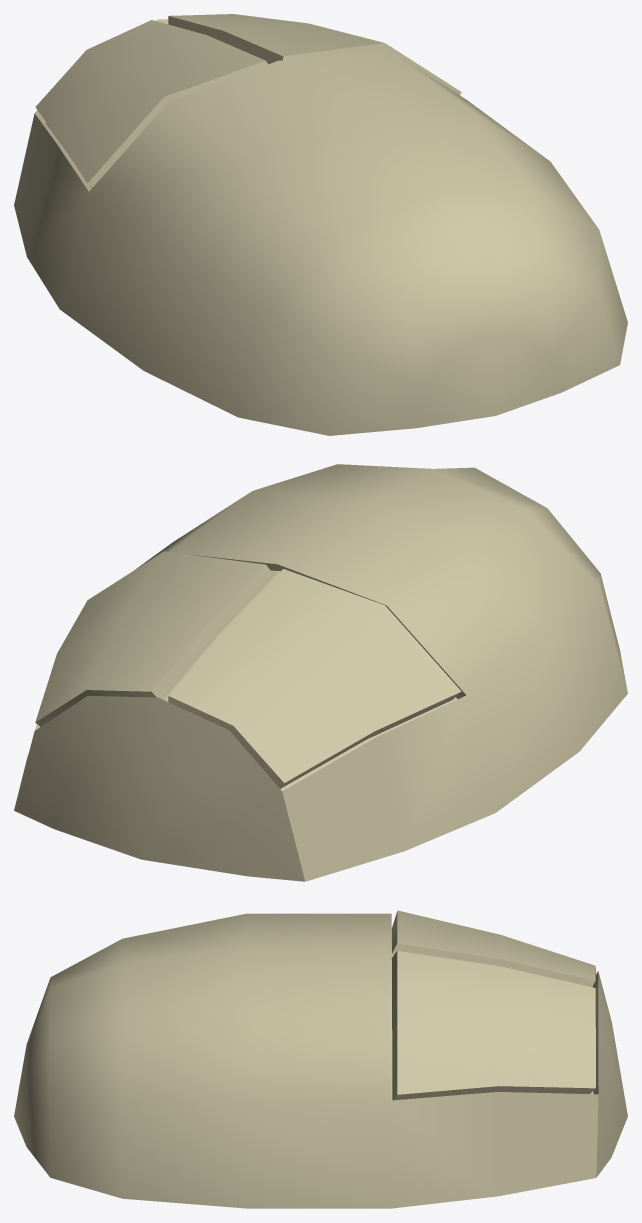
File: Mouse.fbx
3 views of the same model, one above another, from view 1: azimuth 30°, elevation 25°; view 2: azimuth 150°, elevation 25°; view 3: azimuth 270°, elevation 25° (orthographic). The views are drawn at different scales.
Parts seen in each view (by area): view 1: pCylinder33; view 2: pCylinder33; view 3: pCylinder33.
Boxes of the visible parts, left/top/right/bottom form: pCylinder33: left=14, top=14, right=627, bottom=435; pCylinder33: left=14, top=464, right=627, bottom=881; pCylinder33: left=14, top=910, right=627, bottom=1208.
Bounding box in the file's own units: 9.69 × 4.15 × 13.65.
